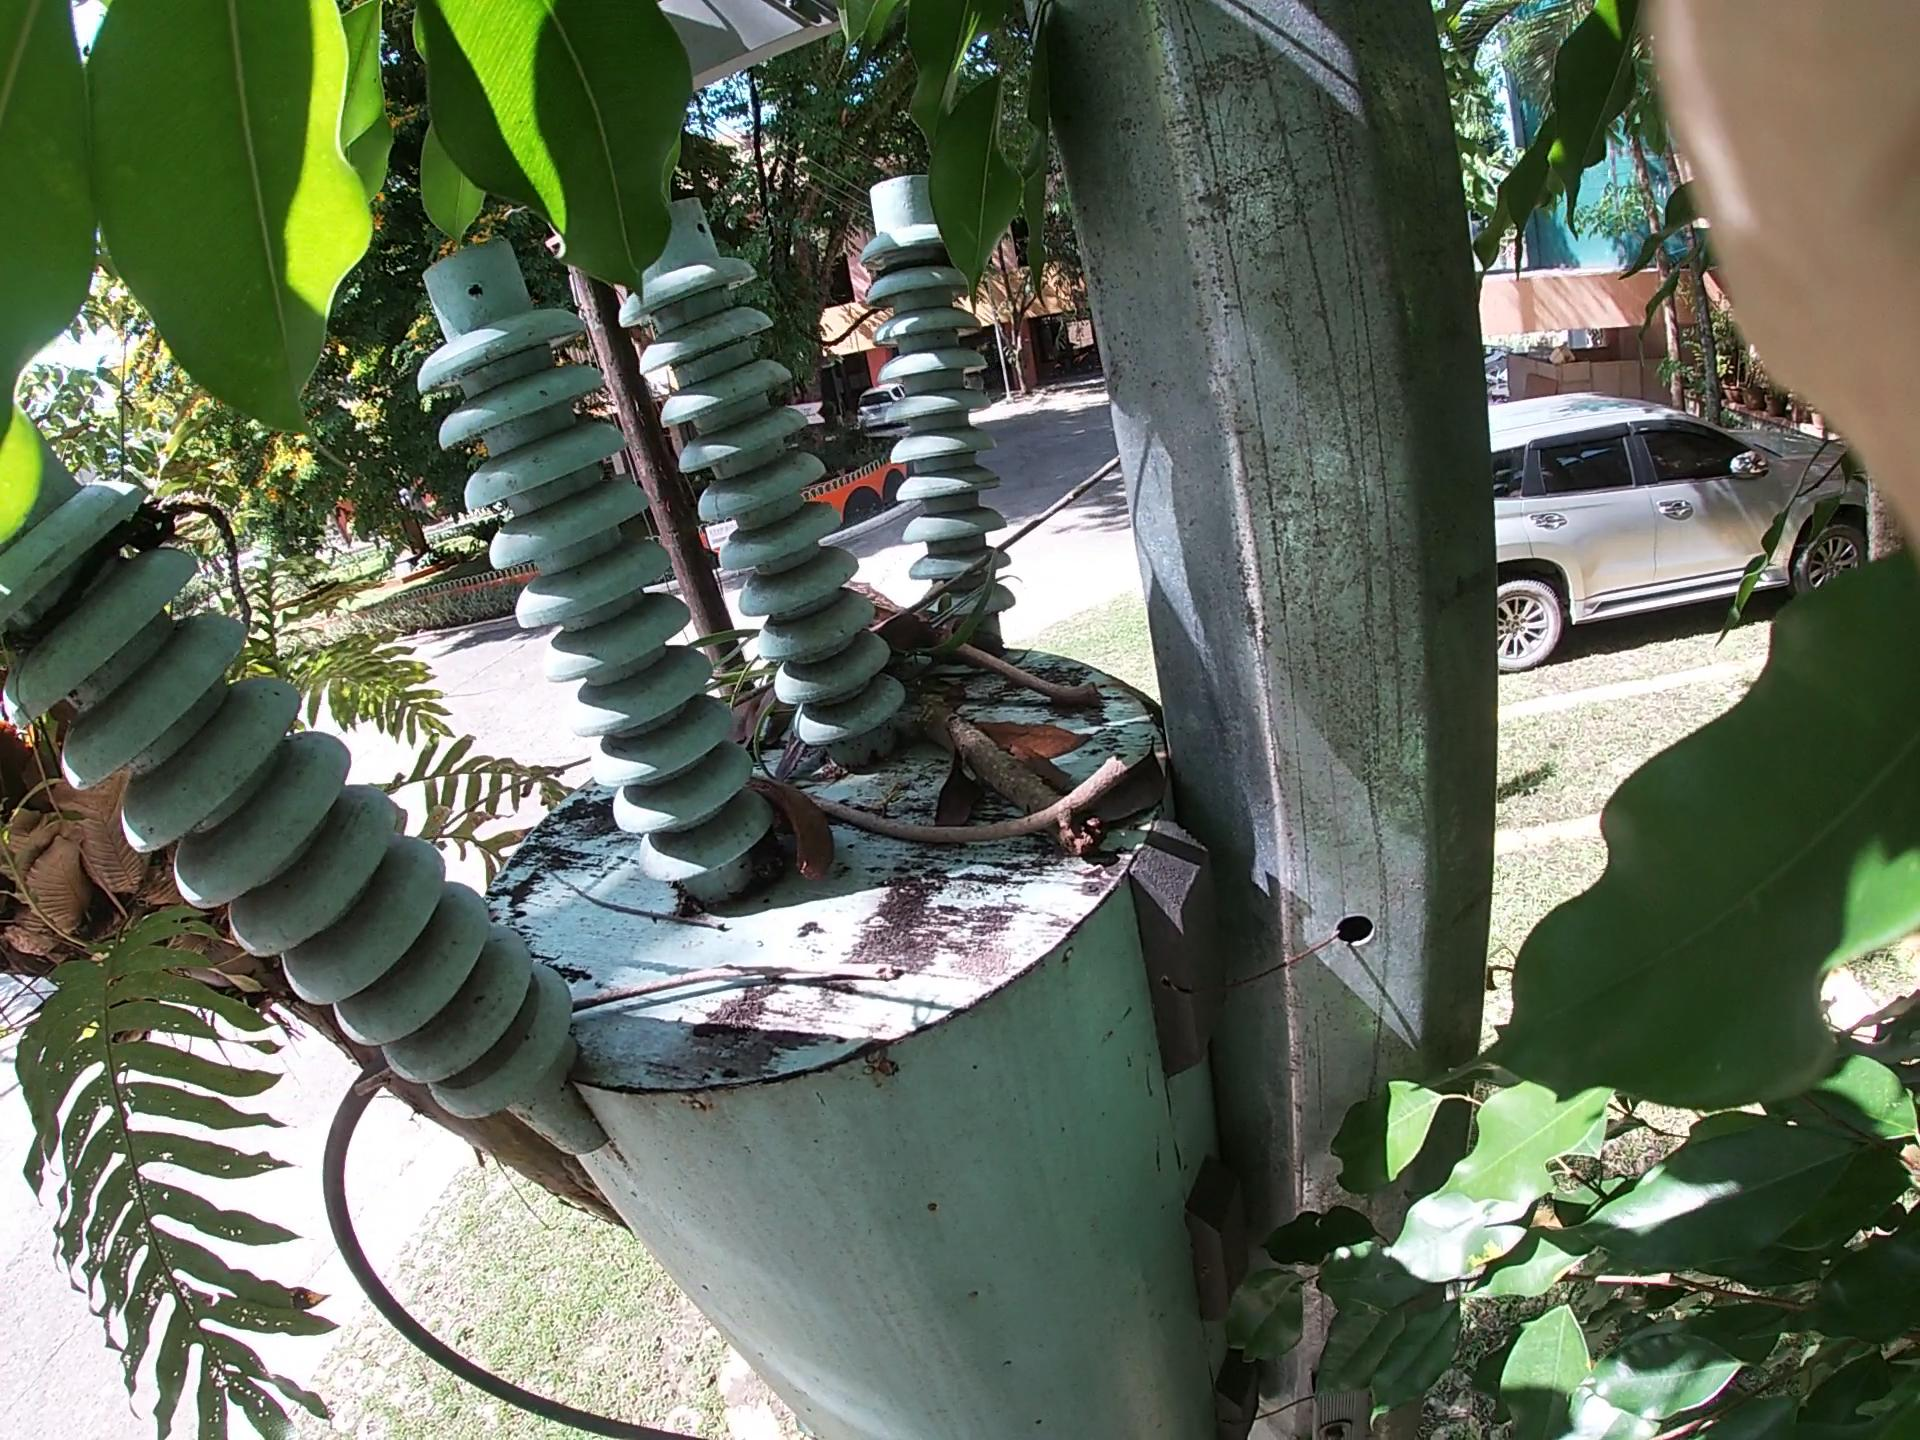branch with leaves: (853, 622, 1137, 862)
leaf: (965, 717, 1098, 839)
tree branch: (838, 411, 1184, 712), (390, 948, 919, 1116), (830, 564, 1117, 726), (830, 791, 1108, 852)
